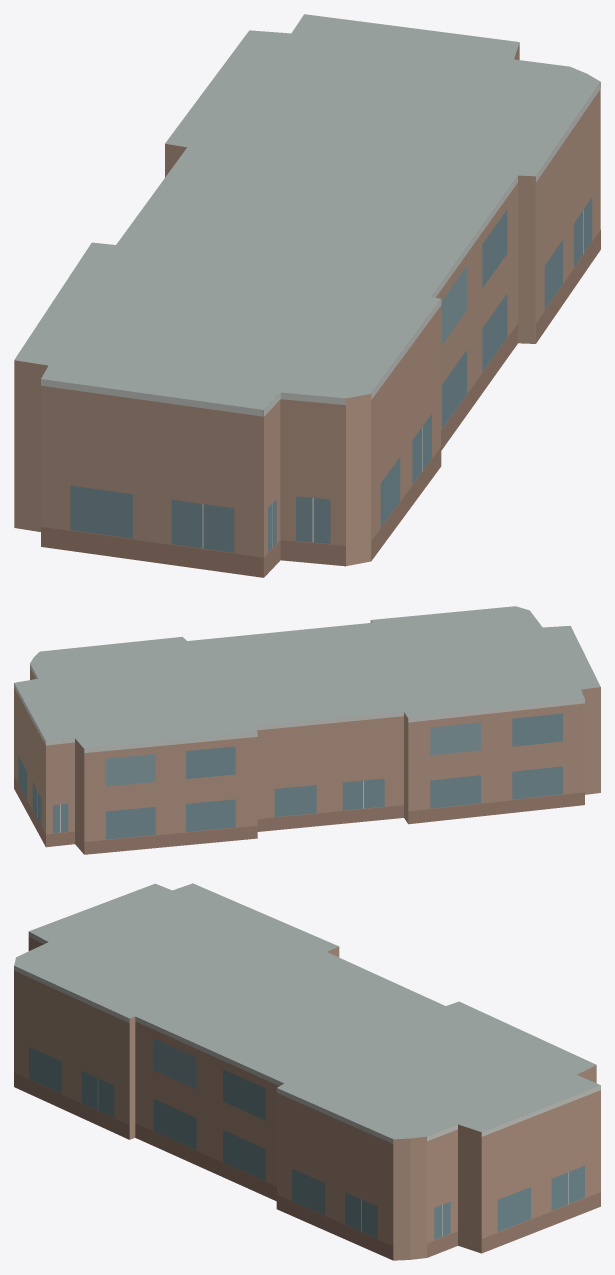
File: survey-upis-32836499.glb
3 views of the same model, one above another, from view 1: azimuth 30°, elevation 25°; view 2: azimuth 150°, elevation 25°; view 3: azimuth 270°, elevation 25° (orthographic). The views are drawn at different scales.
Visible parts, largest first — view 1: survey-upis-32836499.tmp; view 2: survey-upis-32836499.tmp; view 3: survey-upis-32836499.tmp.
Part boxes in pixels (x1=…): survey-upis-32836499.tmp: x1=14, y1=14, x2=600, y2=577; survey-upis-32836499.tmp: x1=14, y1=606, x2=600, y2=854; survey-upis-32836499.tmp: x1=14, y1=883, x2=600, y2=1260.
Size of the model in its own units: 27.61 by 6.1 by 26.74.
